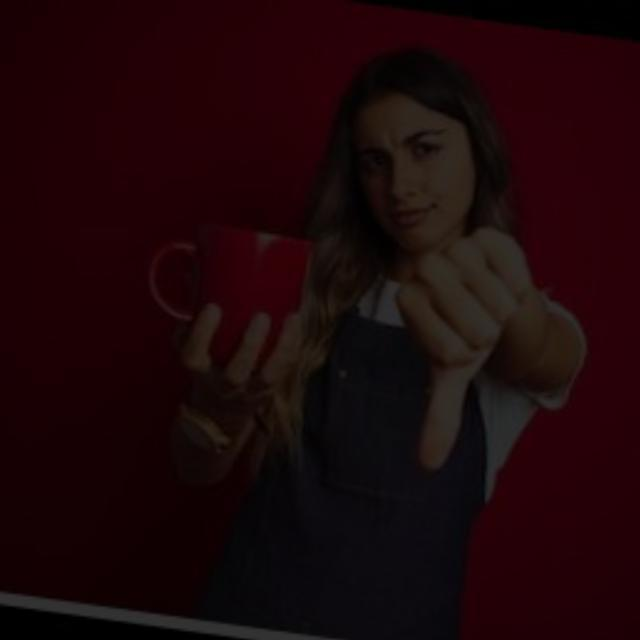Angry: (315, 61, 545, 370)
